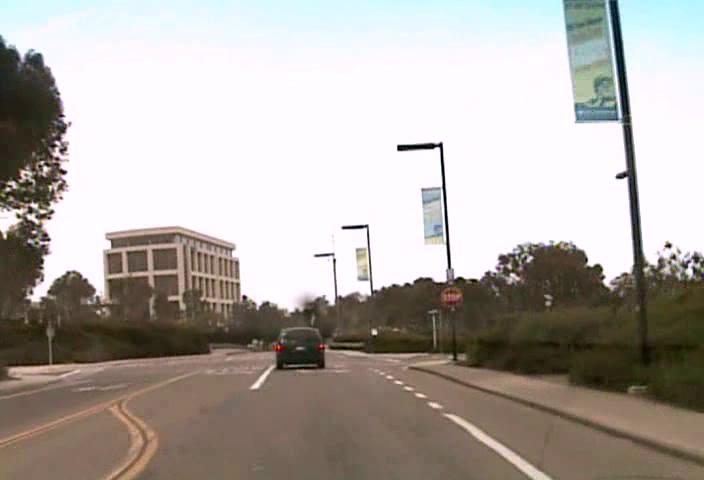stop: (439, 286, 462, 308)
